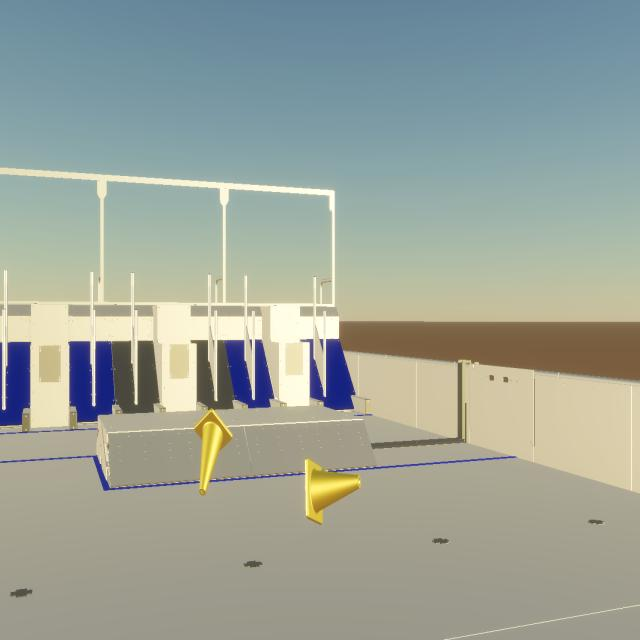frc_cone: (304, 458, 360, 525), (194, 408, 233, 496)
